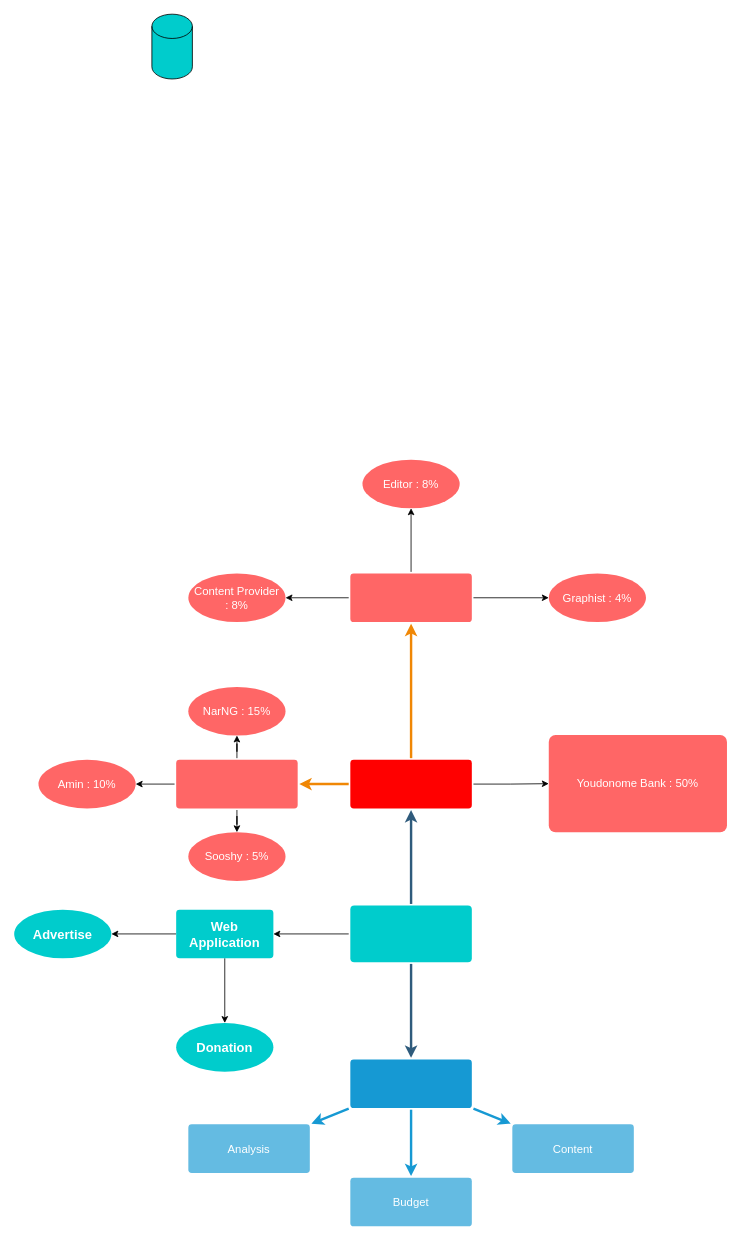
Image size: 740x1240. Some labels were removed from this diagram. Each missing label, with the centre of its shape:
Organization: [410,1083]
PTD Team : 20%: [410,597]
PTW Team : 30%: [236,783]
Youdonome: [410,933]
Youtube: [410,783]
